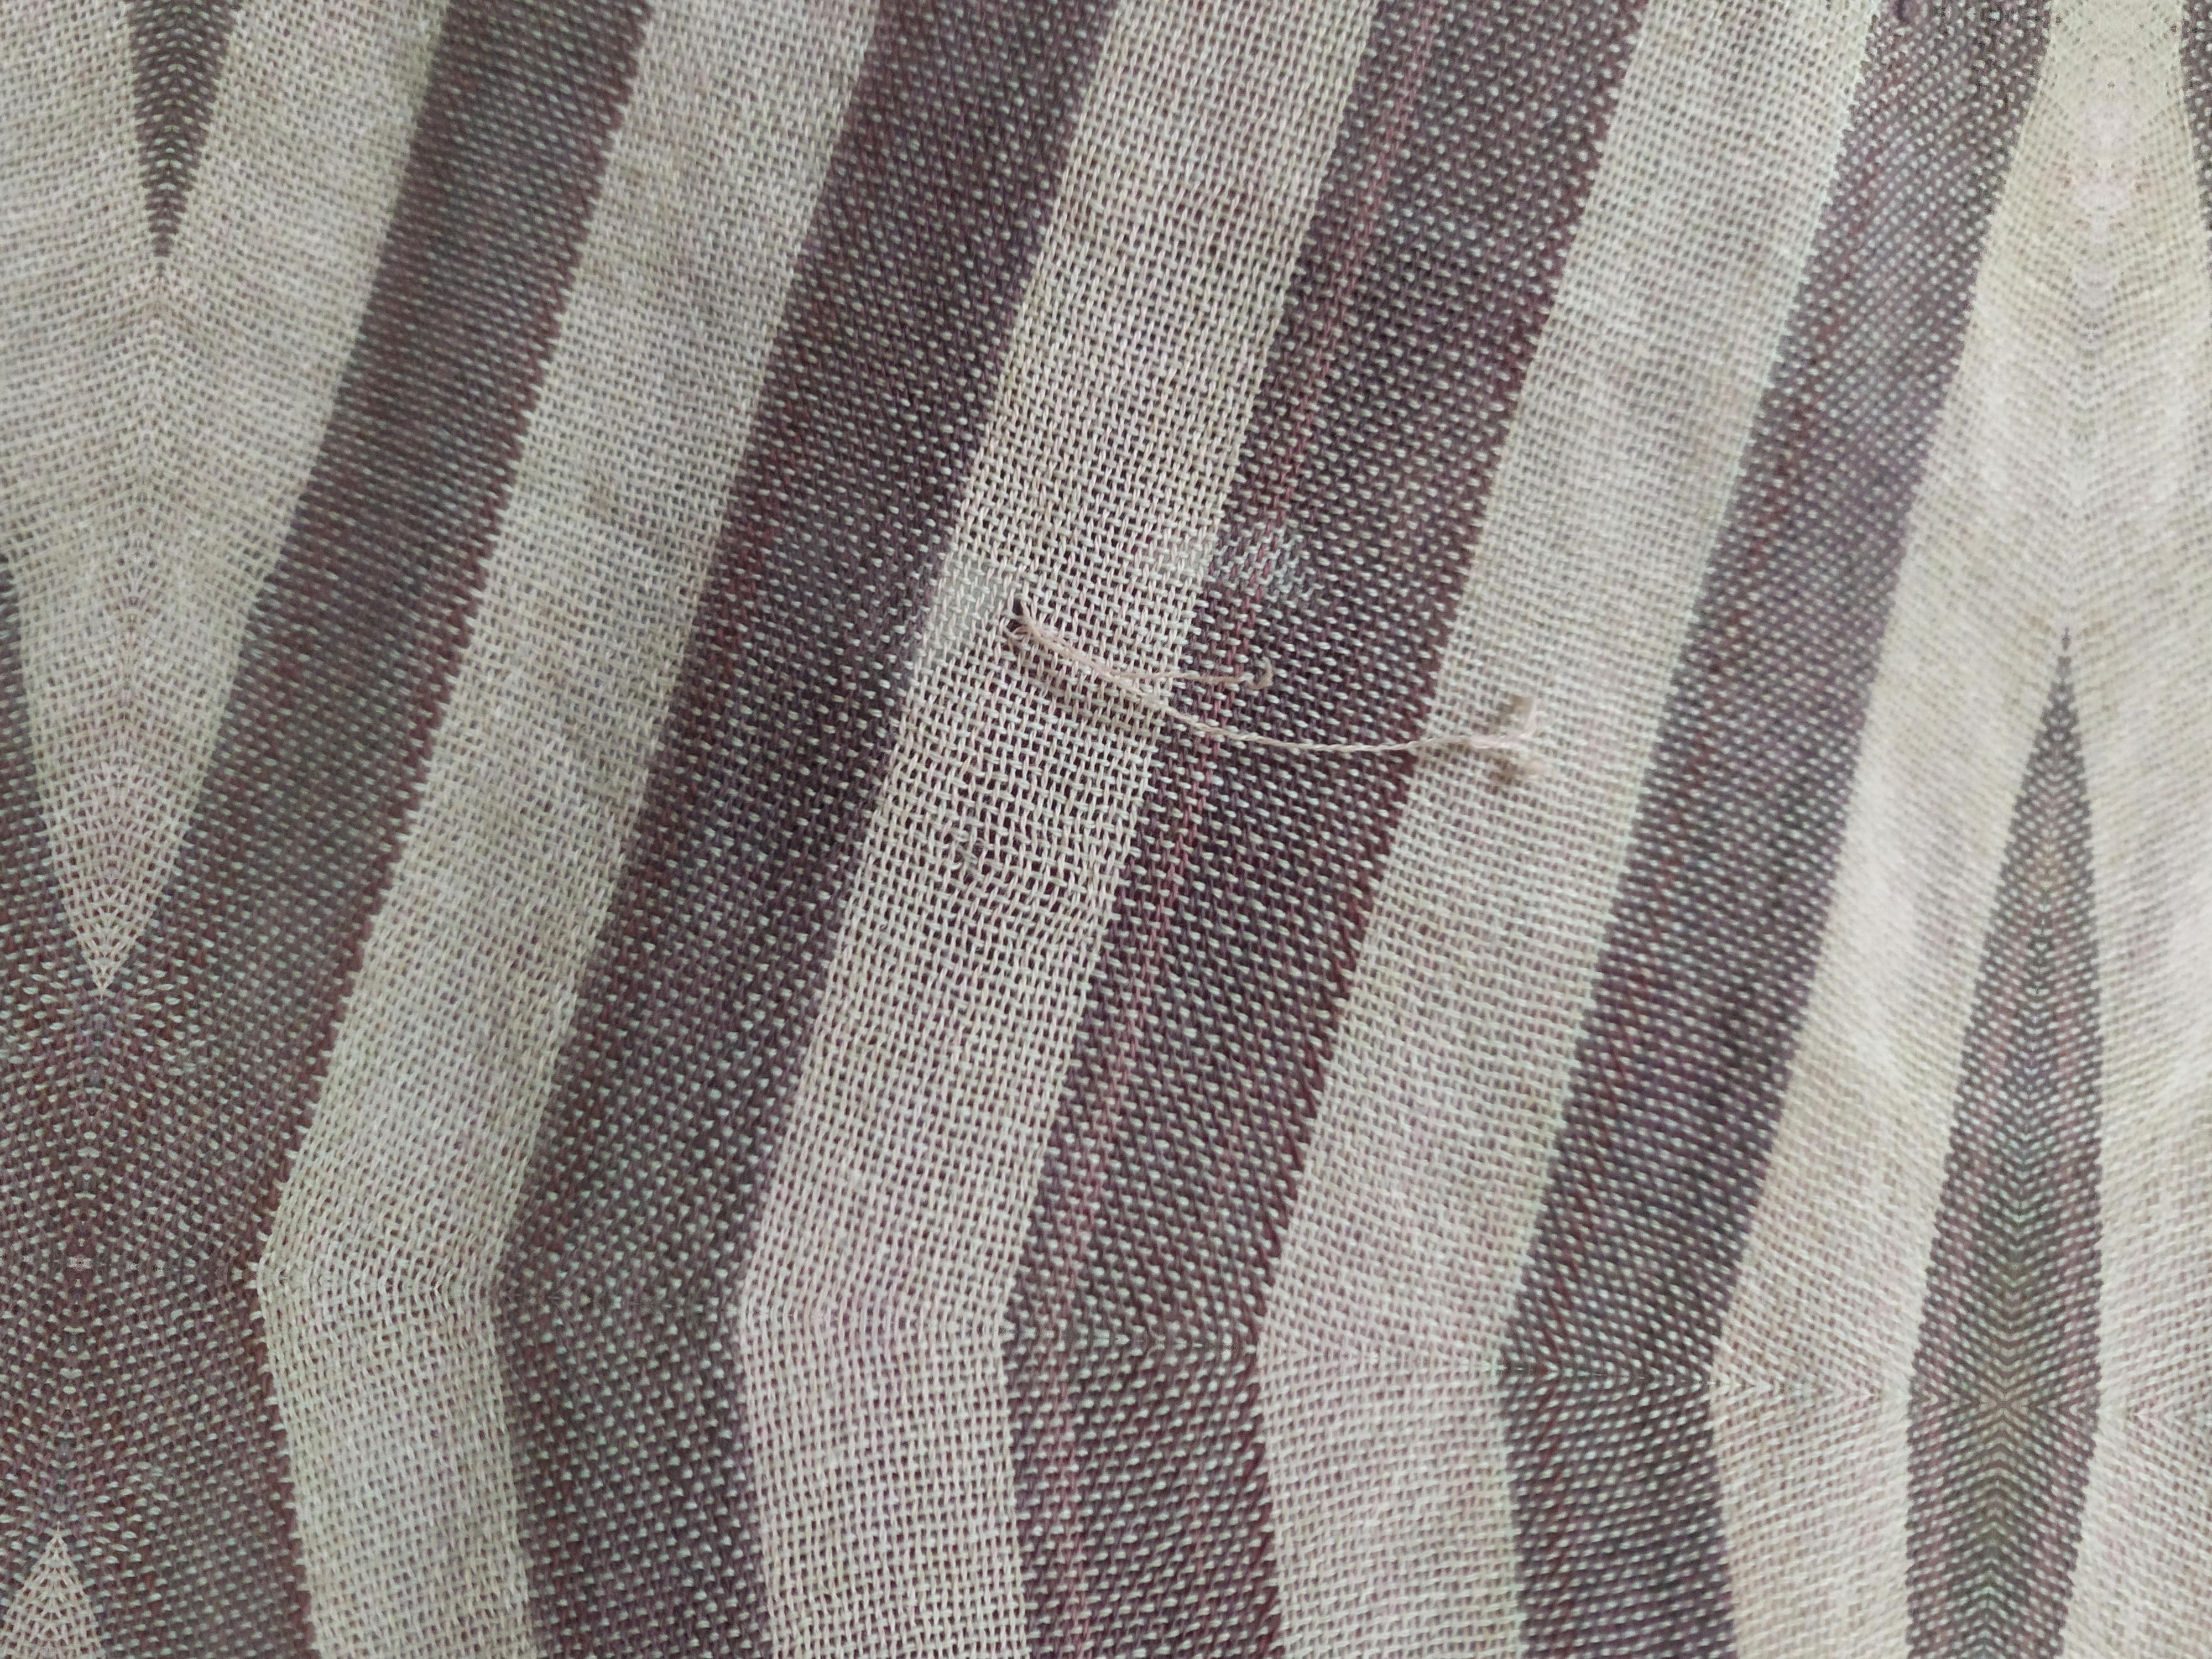snag: (995, 563, 1554, 800)
